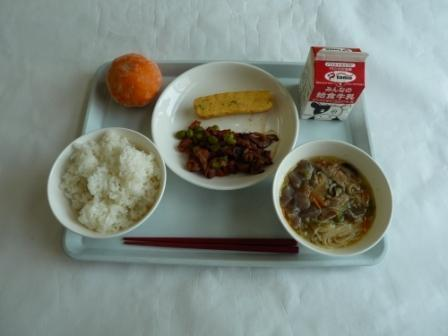Bread: (180, 75, 283, 126)
Citrus: (95, 54, 165, 106)
Milk: (295, 46, 380, 120)
Rice: (44, 123, 169, 235)
Soups: (275, 144, 390, 251)
cooked food based on meat: (176, 120, 282, 178)
